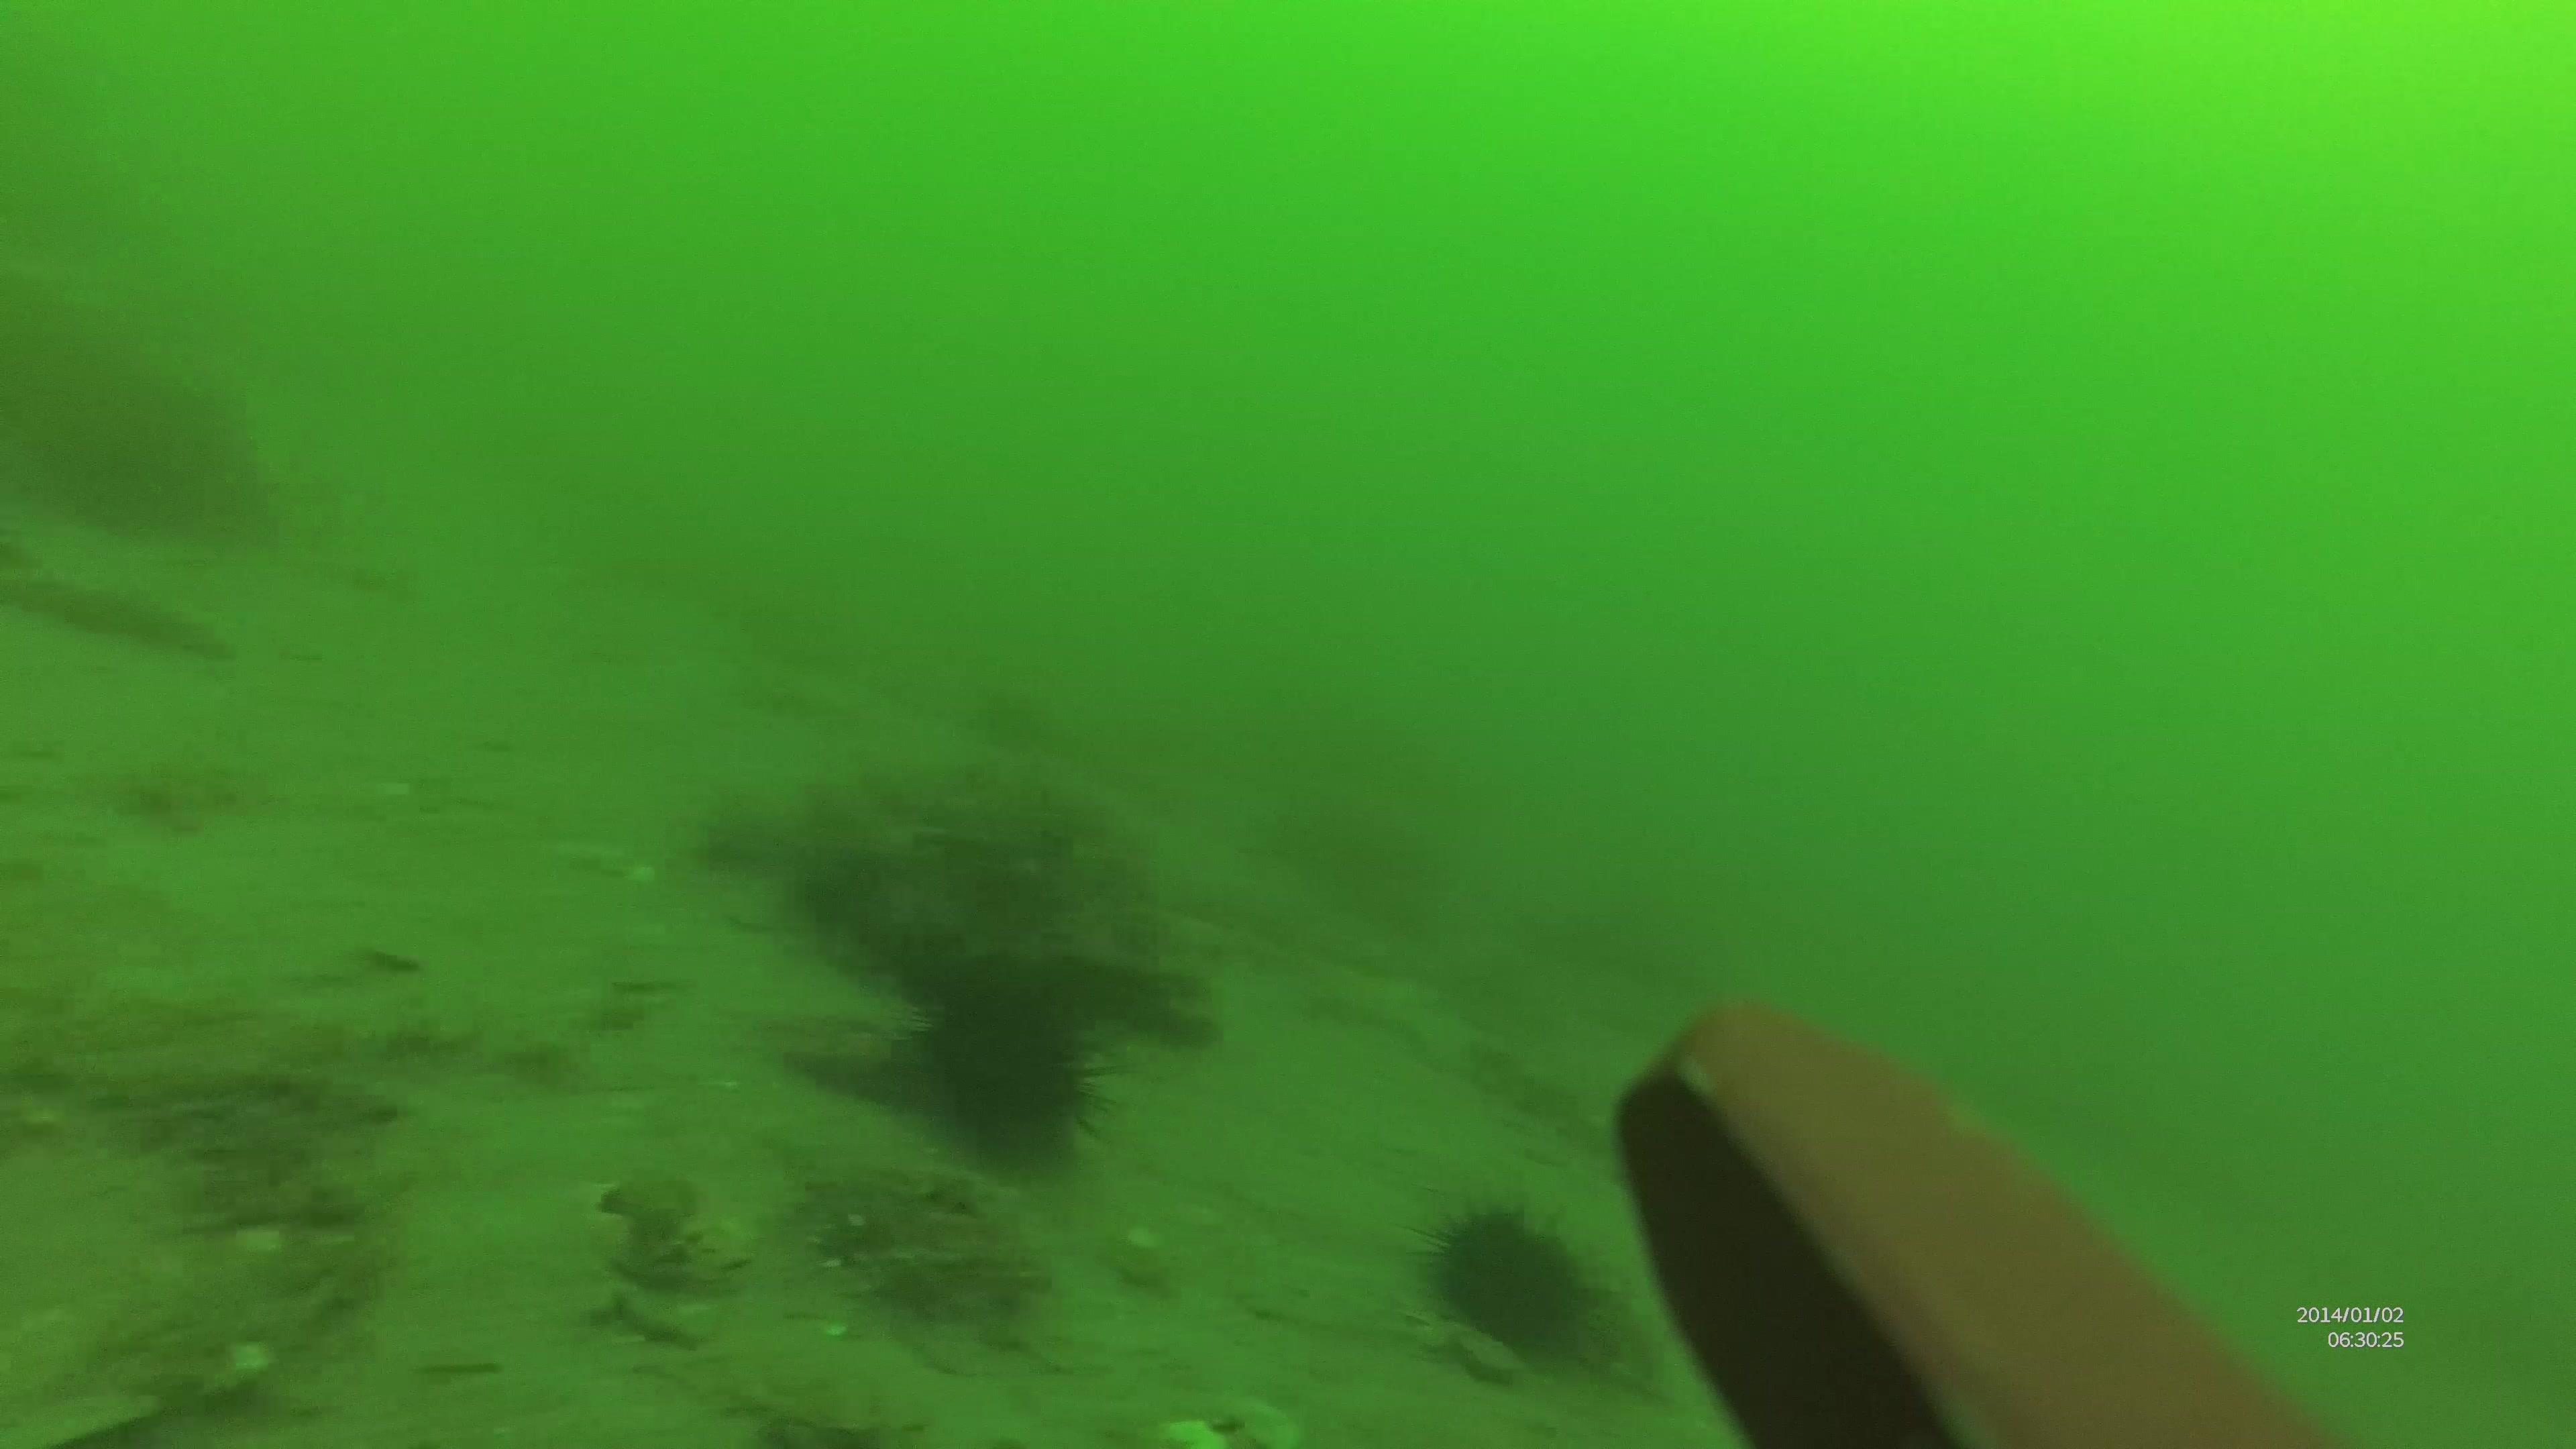echinus: (1419, 1194, 1637, 1376), (899, 959, 1104, 1129)
holothurian: (0, 561, 248, 662)
